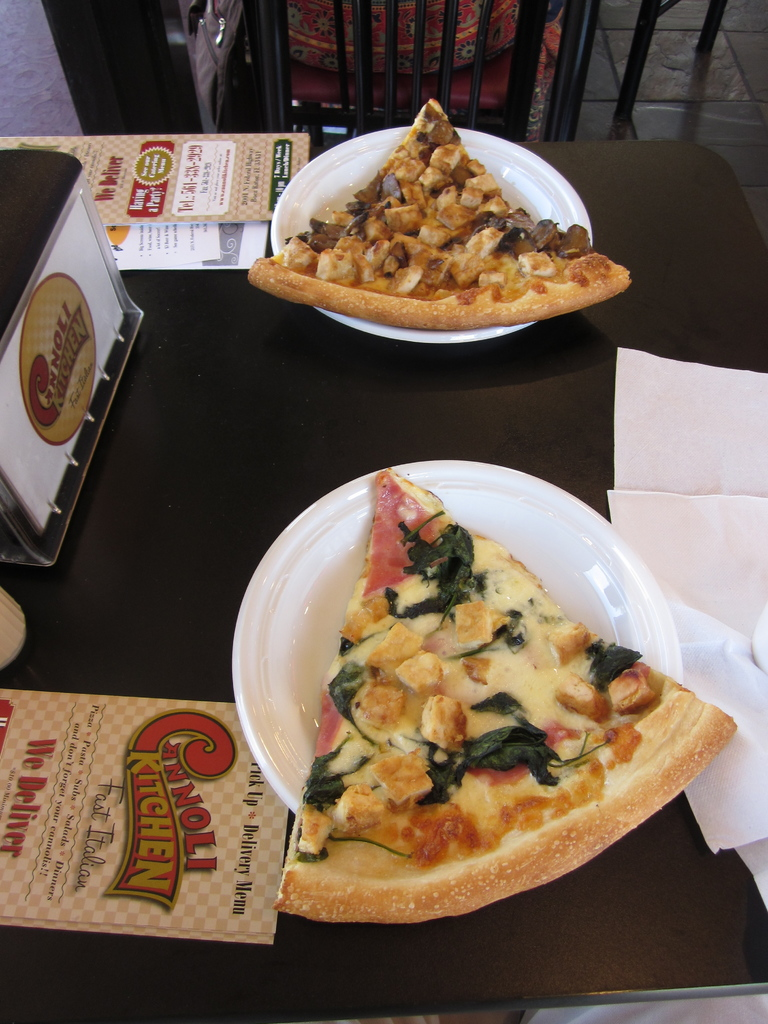Pizza: (262, 464, 742, 925), (231, 90, 622, 325)
